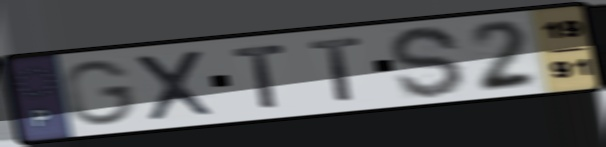2: (466, 18, 542, 94)
G: (60, 58, 140, 128)
S: (387, 24, 469, 101)
T: (305, 34, 367, 104), (230, 42, 291, 111)
X: (130, 47, 220, 124)
